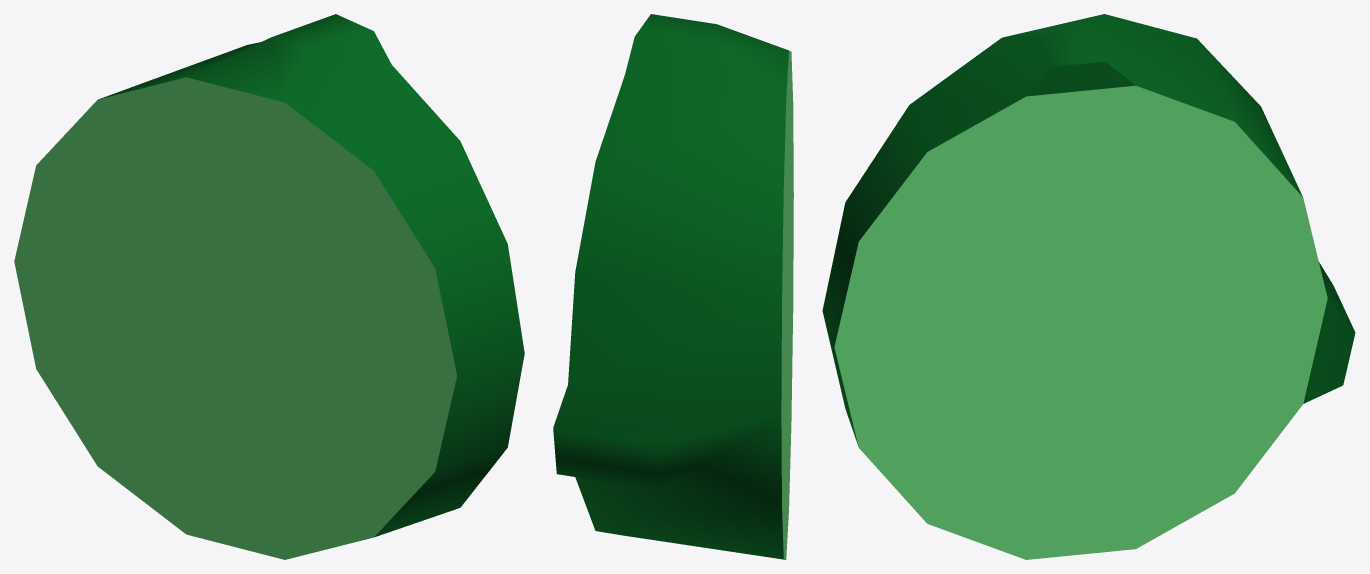
The model's file is mesh_PickleSlice_Stage05.fbx.
3 renders of one model, left to right at view 1: azimuth 30°, elevation 25°; view 2: azimuth 150°, elevation 25°; view 3: azimuth 270°, elevation 25°, orthographic.
Parts seen in each view (by area): view 1: mesh_PickleSlice_Stage05; view 2: mesh_PickleSlice_Stage05; view 3: mesh_PickleSlice_Stage05.
Boxes of the visible parts, x1,y1,x2,y2 form: mesh_PickleSlice_Stage05: (14,14,524,559); mesh_PickleSlice_Stage05: (553,14,793,559); mesh_PickleSlice_Stage05: (822,14,1355,559).
Bounding box in the file's own units: 0.0215 × 0.0343 × 0.0338.
